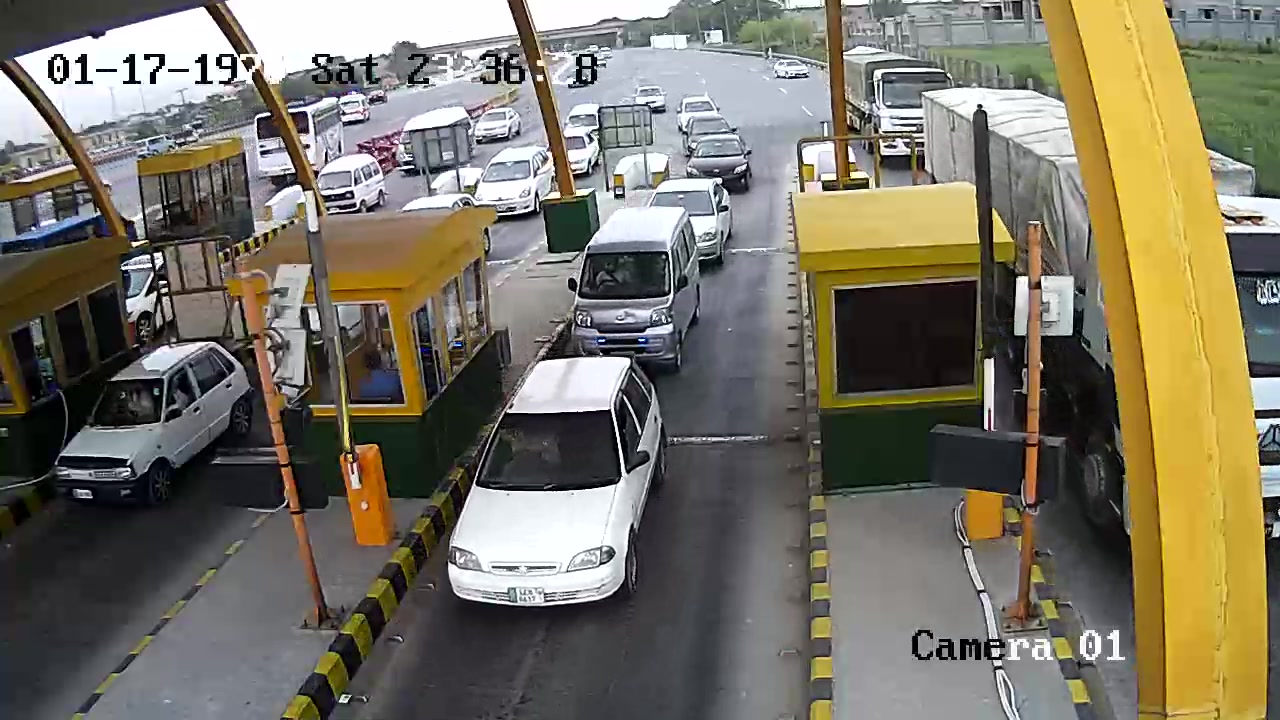F1: (446, 357, 693, 616), (577, 201, 703, 371)
